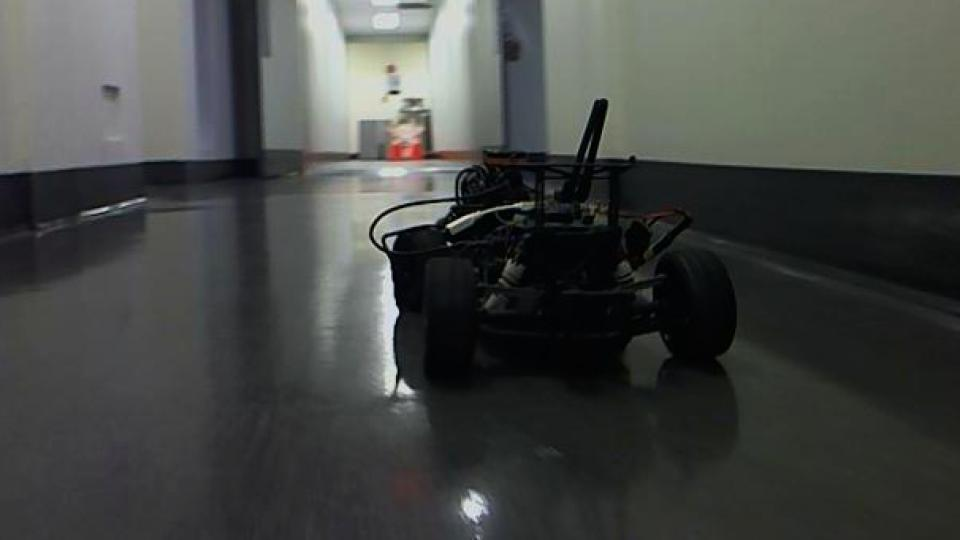car: (366, 95, 740, 381)
